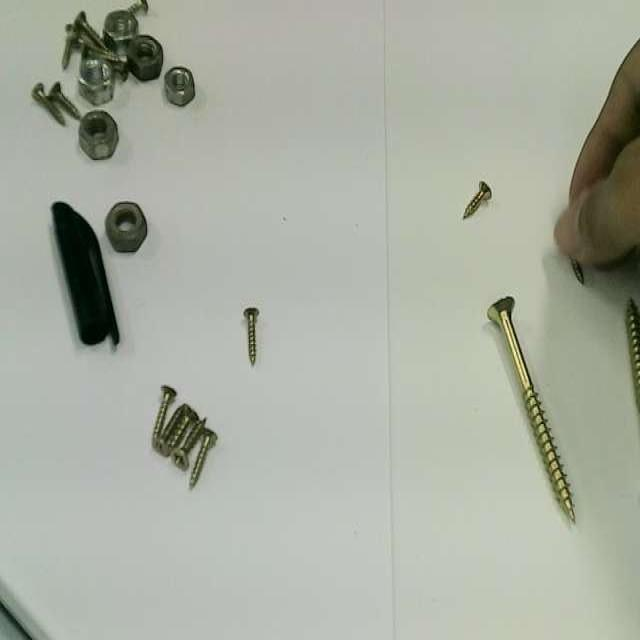Parafuso: (488, 296, 574, 521), (76, 20, 125, 67), (161, 404, 198, 453), (189, 429, 217, 488), (172, 419, 205, 469), (152, 387, 176, 449), (626, 297, 639, 411), (74, 11, 109, 52), (31, 83, 64, 124), (46, 81, 81, 119), (463, 181, 491, 219), (246, 308, 258, 364), (61, 25, 75, 68), (571, 260, 583, 283), (128, 0, 148, 12)
Porca: (105, 203, 146, 251), (79, 111, 118, 159), (78, 55, 114, 104), (104, 9, 138, 56), (128, 35, 163, 80), (164, 67, 194, 105)
